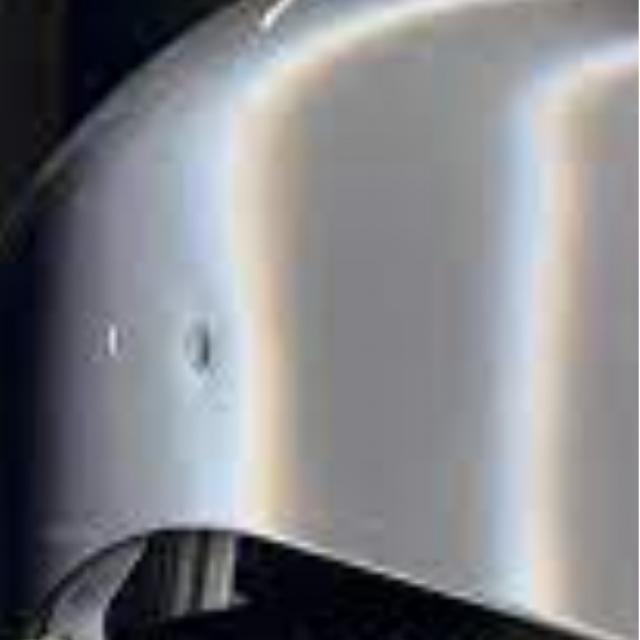dents: (85, 307, 156, 413), (172, 297, 222, 386)
